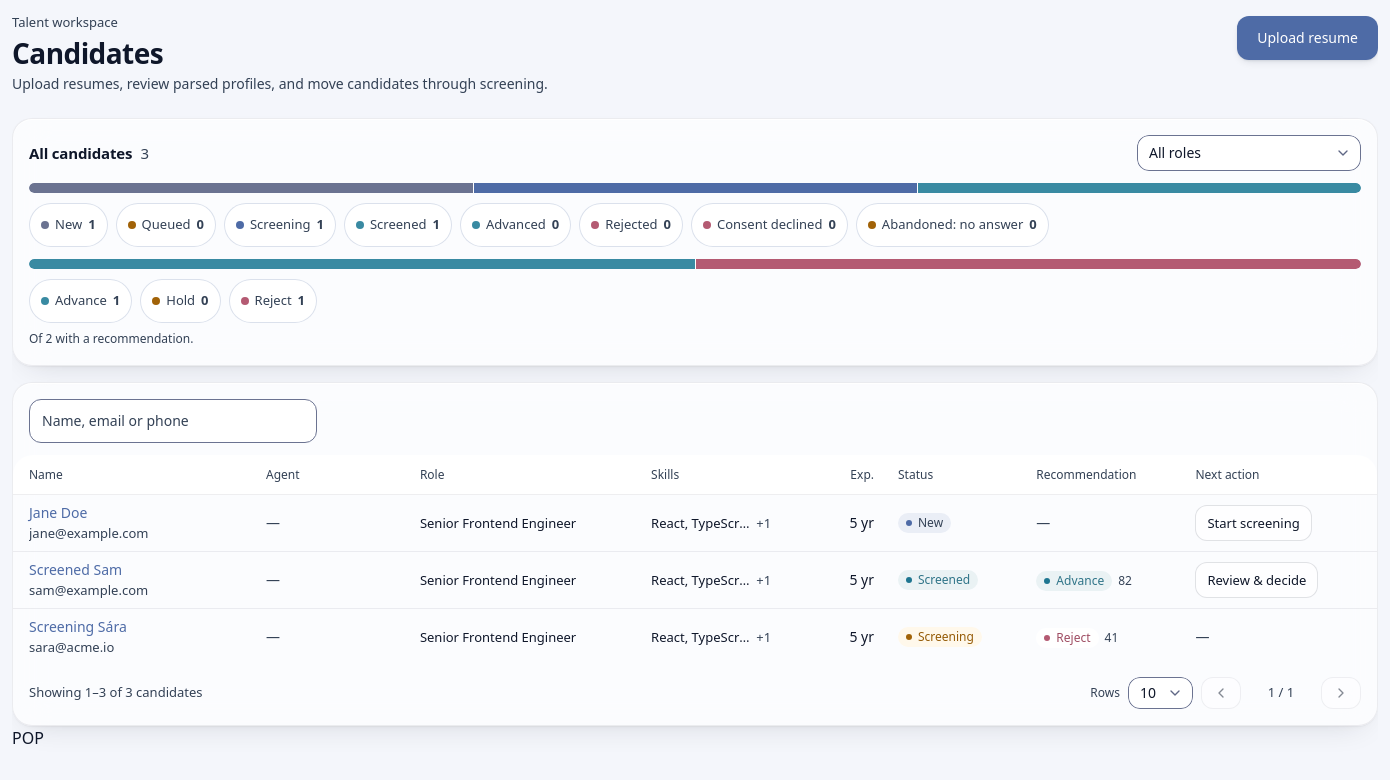
Test case: CandidatesPage search › filters as you type, then writes ?q= to the URL with REPLACE
Expected: the link "Jane Doe" is shown, x1=29 y1=503 x2=88 y2=522
In the search field named "Search candidates": x=173, y=421 x1=29 y1=399 x2=317 y2=443, type "sam"
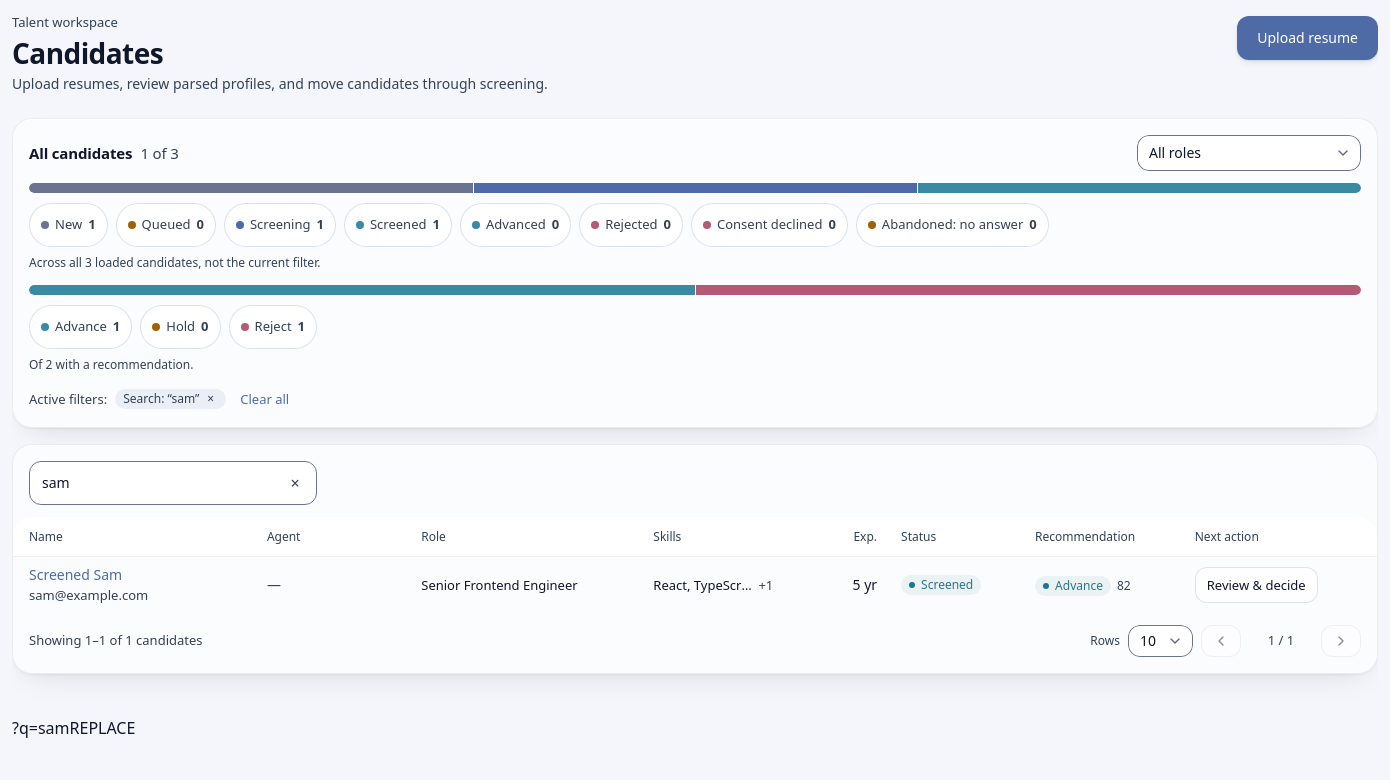
Expected: the text with test id "location" reads "?q=sam", x1=12 y1=717 x2=70 y2=739
Expected: the text with test id "nav-type" reads "REPLACE", x1=70 y1=717 x2=135 y2=739
Expected: the text "1 of 3" is shown, x1=140 y1=143 x2=179 y2=163
